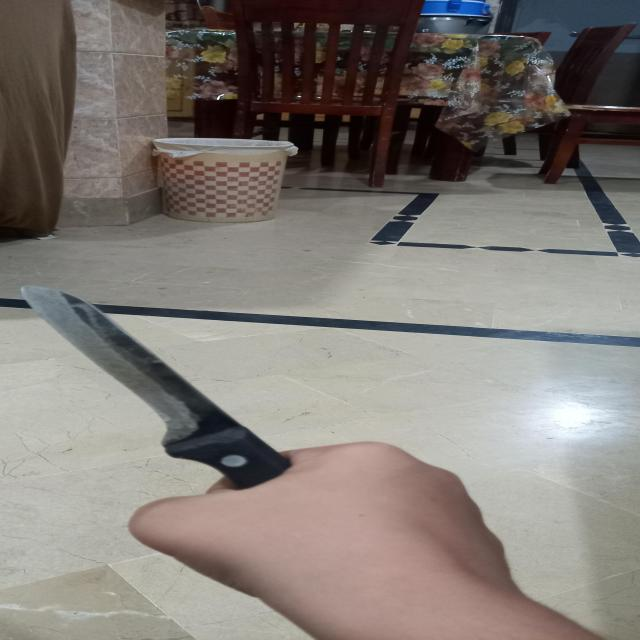weapon: (18, 283, 294, 490)
